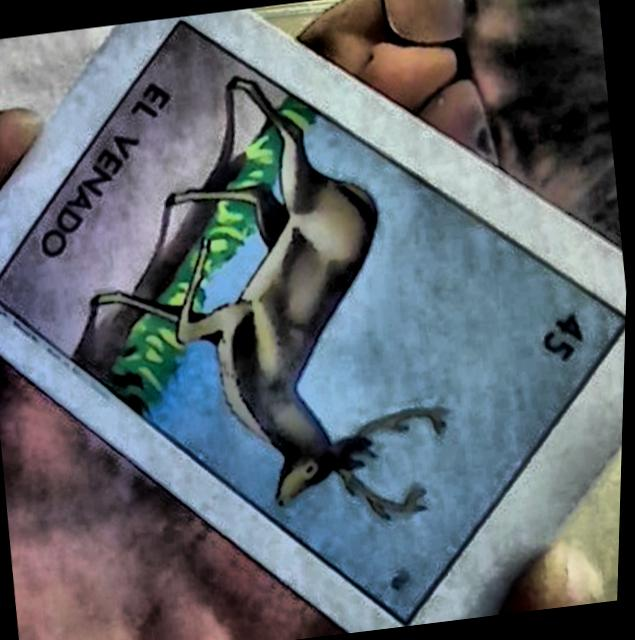El Venado: (0, 21, 625, 626)
